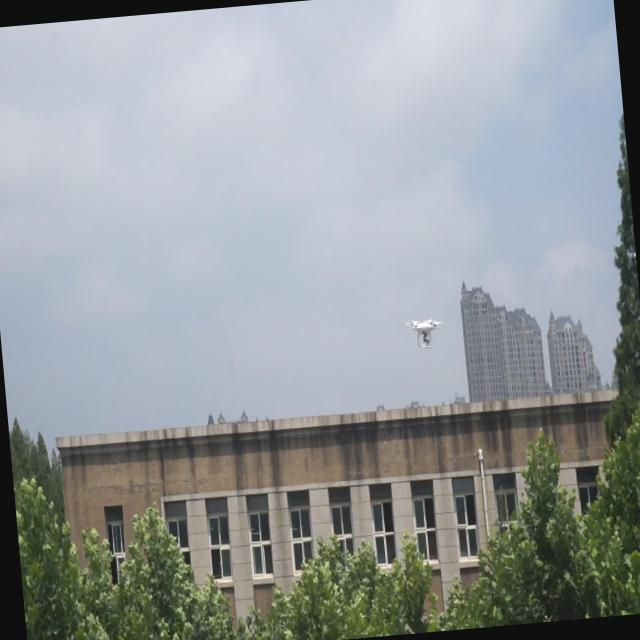drone: (404, 311, 446, 352)
